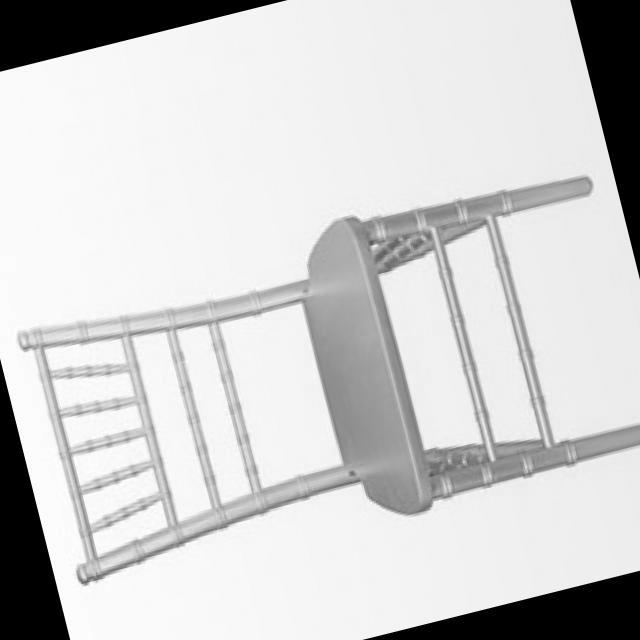chair: (5, 149, 640, 603)
